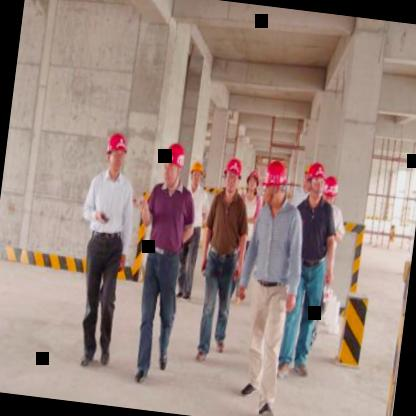helmet: (260, 153, 290, 211), (102, 126, 132, 178), (158, 138, 188, 187), (299, 158, 326, 201), (220, 151, 244, 197), (186, 158, 206, 194), (320, 172, 340, 206), (244, 166, 262, 196)
